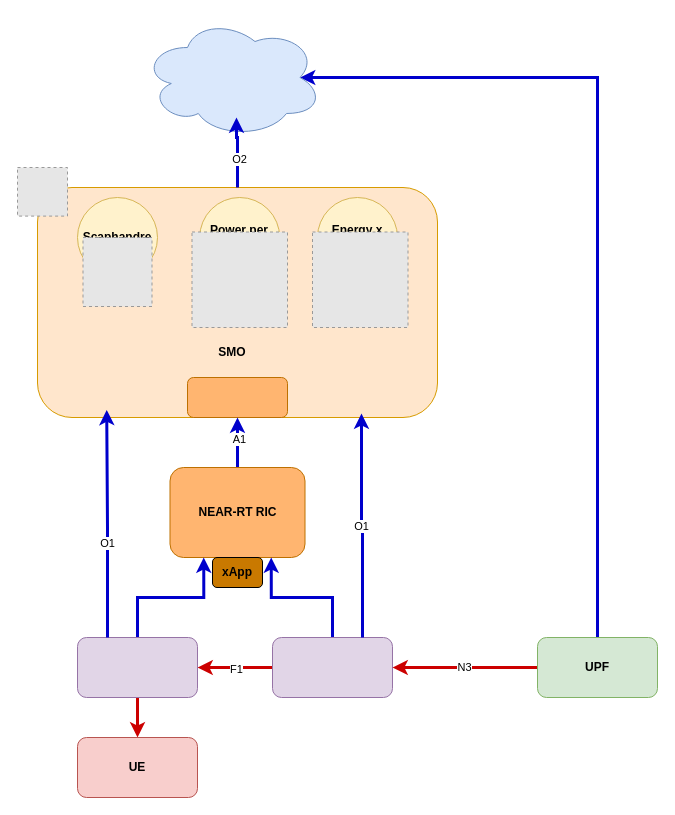
Image size: 675x815. Some labels were removed from this diagram. Grey dashed boxes stand in for pictures. Here are the shapes that lost their labels. From the top down, the centre of each, then its label:
At point (232, 77): "O-CLOUD".
At point (237, 397): "NON-RT RIC".
At point (137, 667): "DU+RU".
At point (332, 667): "CU".
